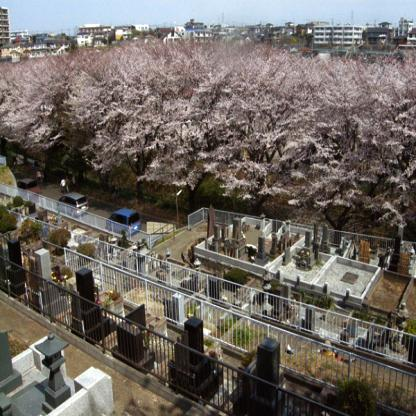Someiyoshino: (0, 39, 415, 225)
